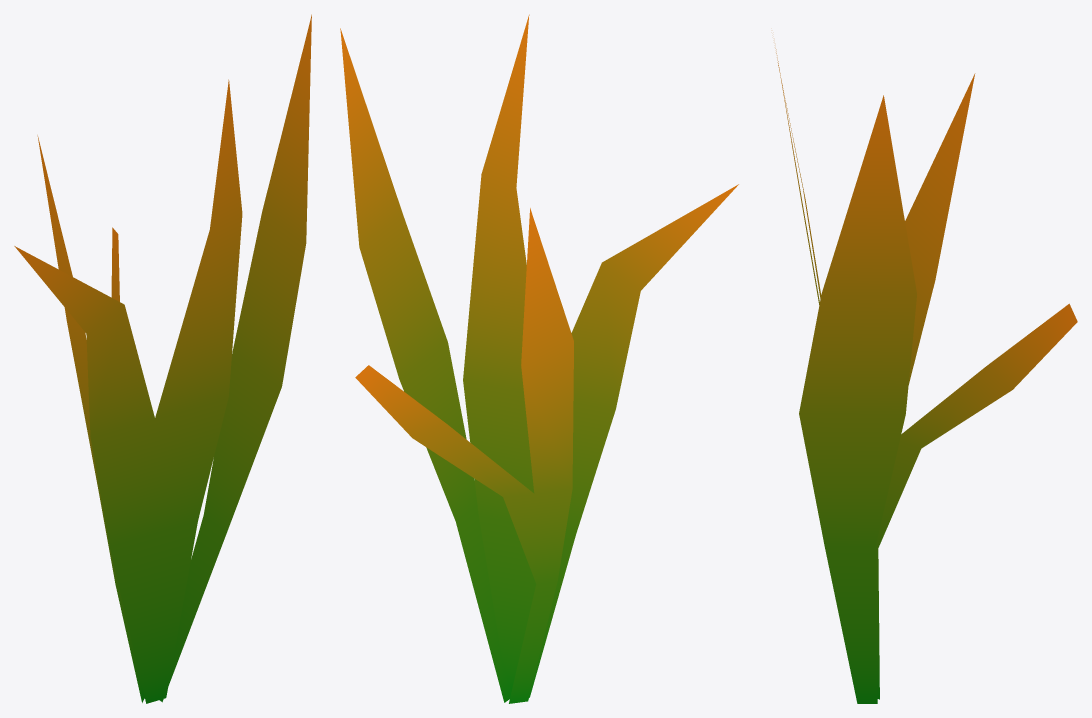
File: Common Eelgrass_LOD2_Var8_sjglk.fbx
The picture shows the model from 3 angles, left to right: view 1: azimuth 30°, elevation 25°; view 2: azimuth 150°, elevation 25°; view 3: azimuth 270°, elevation 25°; orthographic projection. The views are drawn at different scales.
Visible parts, largest first — view 1: _9f3f_Var8_LOD2; view 2: _9f3f_Var8_LOD2; view 3: _9f3f_Var8_LOD2.
Boxes of the visible parts, bbox=[...] form: _9f3f_Var8_LOD2: bbox=[14, 14, 311, 703]; _9f3f_Var8_LOD2: bbox=[340, 14, 738, 703]; _9f3f_Var8_LOD2: bbox=[775, 48, 1077, 703].
Bounding box in the file's own units: 40.09 × 71.07 × 28.36.
